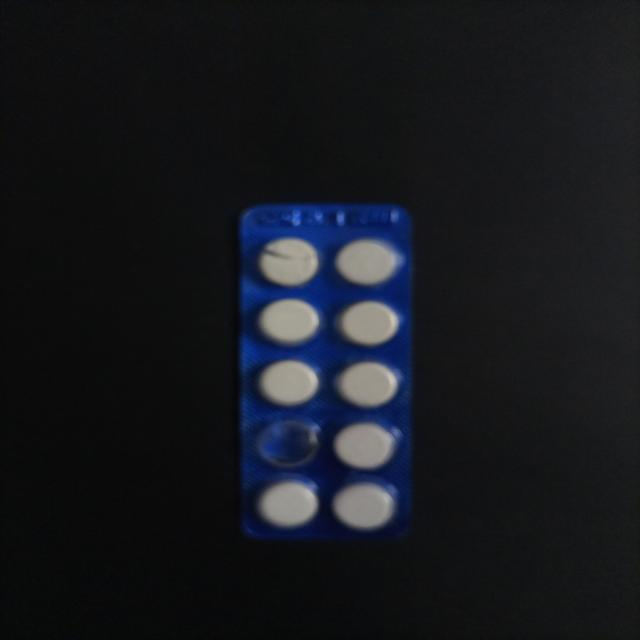defect: (248, 417, 325, 471), (254, 234, 322, 290)
